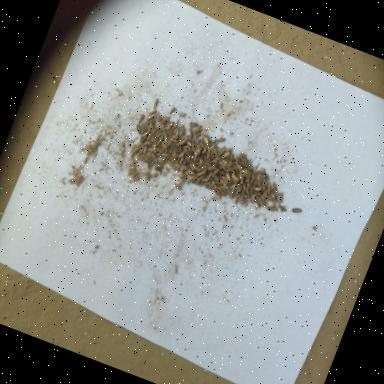pbw: (171, 118, 183, 135), (213, 182, 226, 196), (148, 126, 160, 140), (191, 130, 203, 144), (156, 122, 168, 136), (130, 144, 142, 158), (146, 144, 159, 156), (187, 142, 198, 156), (186, 126, 197, 140), (154, 134, 164, 149), (132, 124, 144, 136), (146, 110, 158, 122), (187, 161, 199, 173), (170, 149, 181, 162), (276, 190, 287, 202), (138, 153, 150, 164), (260, 171, 272, 182), (272, 193, 284, 204), (276, 202, 288, 213), (222, 170, 233, 182), (200, 143, 210, 156), (290, 206, 303, 216), (167, 118, 176, 132), (223, 190, 235, 200), (255, 197, 265, 209), (178, 122, 188, 134), (146, 120, 156, 132), (266, 204, 278, 214), (270, 194, 280, 206), (210, 146, 220, 158), (178, 149, 188, 160), (187, 118, 198, 128), (143, 138, 154, 148), (230, 172, 241, 182), (211, 172, 222, 182), (180, 136, 189, 148), (236, 174, 246, 184), (162, 115, 172, 125), (224, 158, 234, 168), (148, 108, 158, 118), (202, 178, 212, 188), (158, 154, 168, 164), (271, 182, 281, 192), (198, 168, 208, 178), (234, 164, 244, 174), (188, 172, 198, 182), (239, 182, 249, 192), (216, 134, 226, 144), (211, 192, 221, 202), (201, 134, 211, 144), (206, 164, 216, 174), (229, 182, 238, 193), (162, 133, 171, 144), (176, 110, 187, 119), (244, 180, 252, 192), (142, 128, 150, 140), (137, 112, 145, 124), (184, 174, 192, 186), (167, 106, 176, 116), (256, 168, 266, 177), (236, 196, 246, 205), (143, 162, 152, 172), (152, 98, 160, 109), (212, 167, 220, 178), (260, 182, 268, 192), (170, 134, 180, 142), (222, 150, 230, 160), (208, 142, 216, 152), (148, 158, 156, 168), (179, 174, 187, 184), (250, 192, 258, 202), (195, 123, 203, 133), (198, 156, 206, 166), (201, 174, 209, 184), (218, 159, 228, 167), (264, 182, 272, 192), (210, 138, 218, 148), (260, 198, 270, 206), (204, 151, 212, 160), (178, 155, 185, 165), (179, 164, 189, 171), (142, 146, 149, 156), (172, 183, 182, 190), (242, 168, 250, 176), (254, 185, 262, 193), (161, 151, 170, 158), (248, 178, 254, 188), (266, 195, 274, 202), (235, 193, 241, 202), (210, 182, 218, 188), (191, 154, 197, 162), (183, 170, 190, 176), (162, 142, 168, 149)
